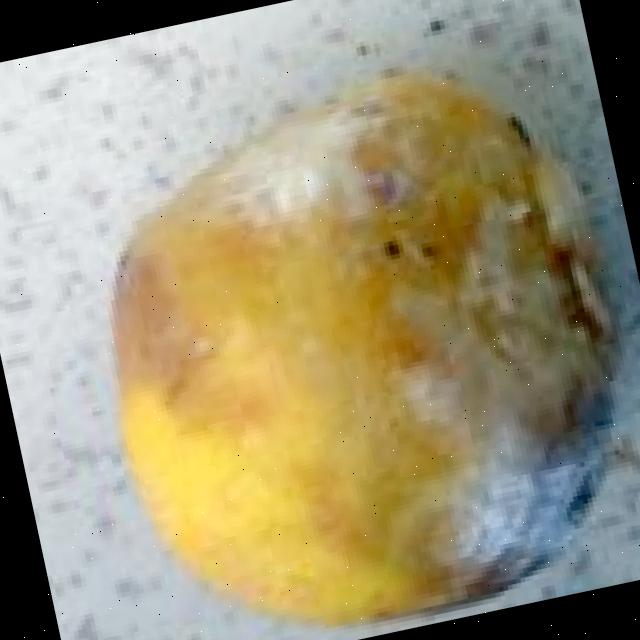Bad_Lime-0-1-day: (109, 64, 623, 626)
